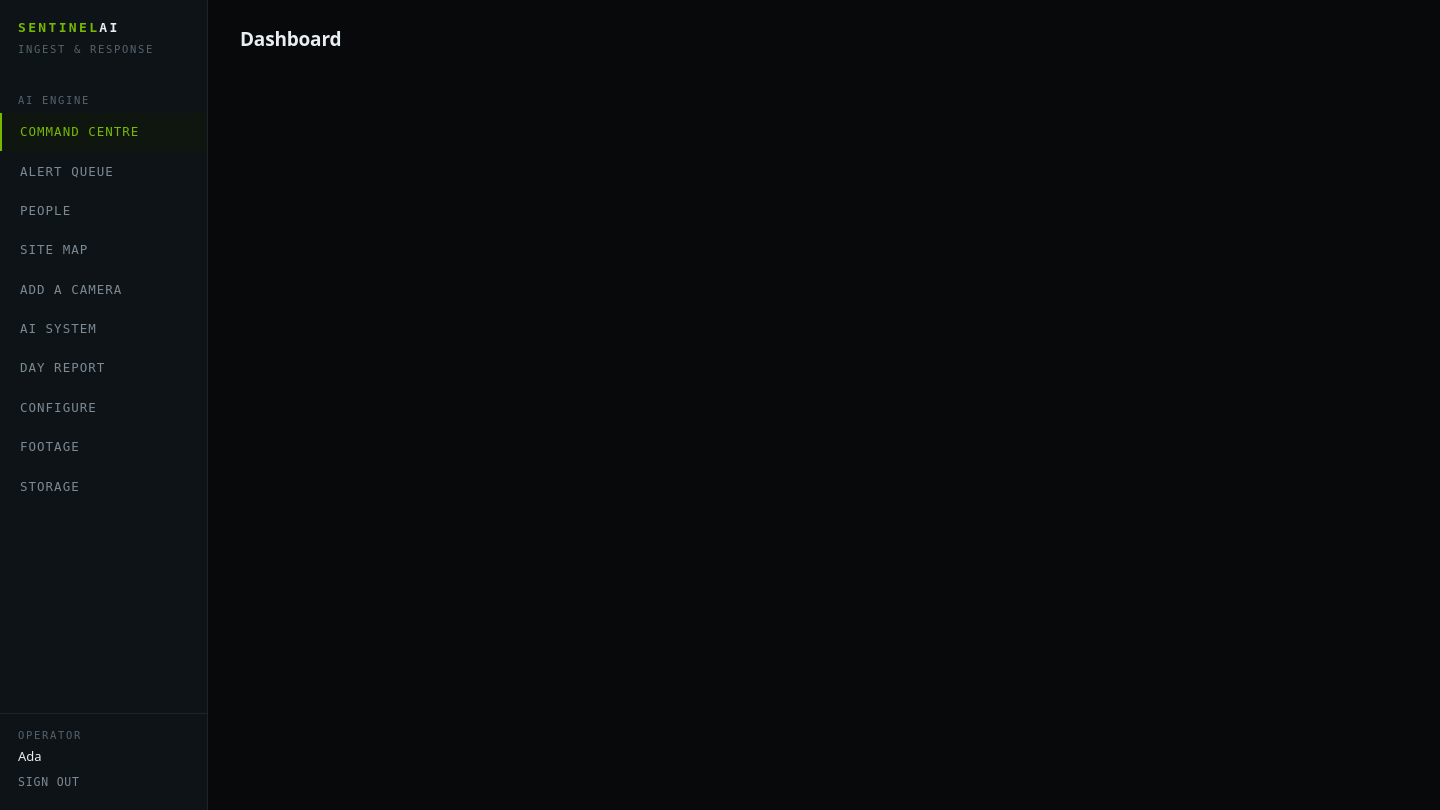
AppShell navigation › navigates to a recorder section without leaving the shell
Step 1. Click the link "Storage" → (50, 486), box [20,478,80,494]
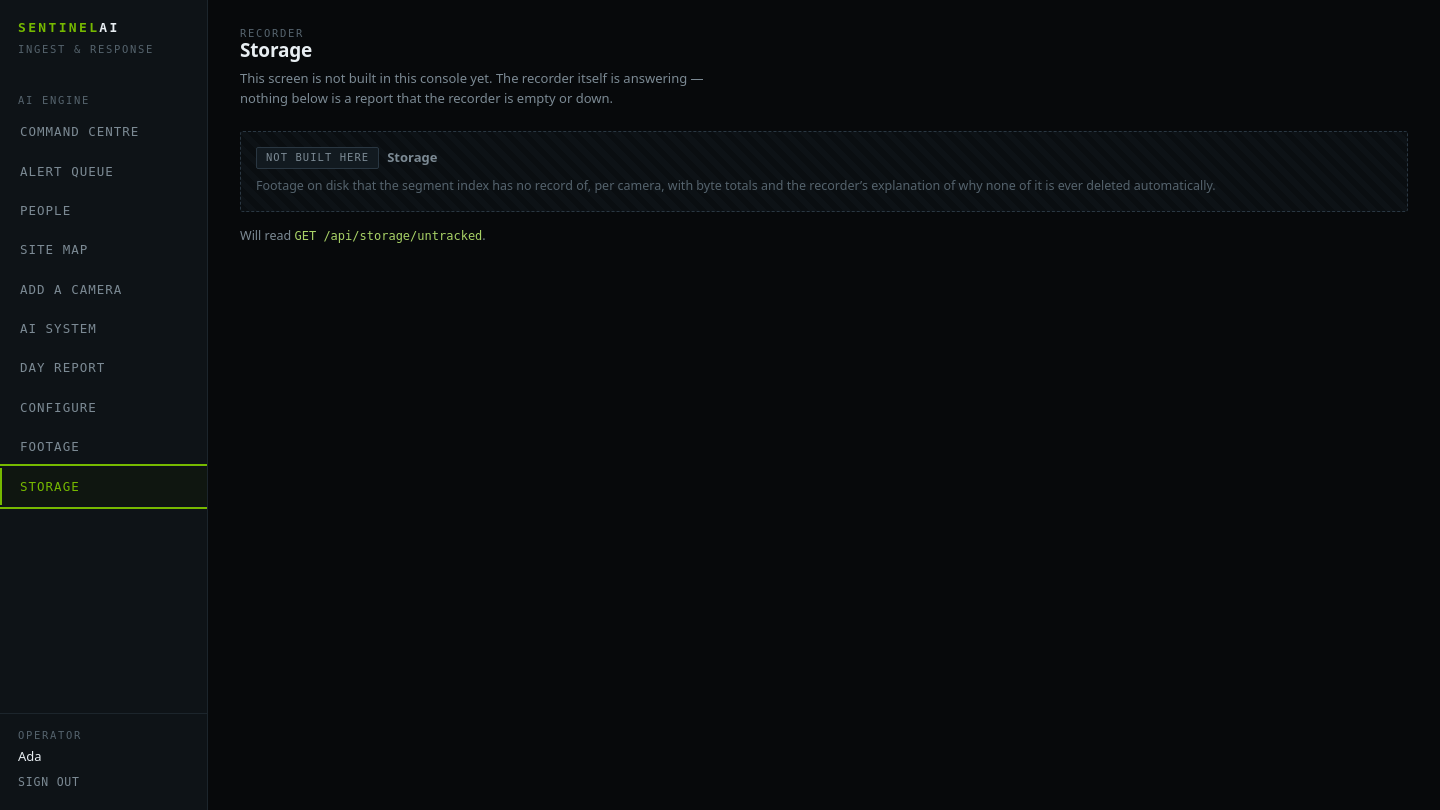
Expected: the navigation bar named "Sections" is shown, [0,0,208,809]
Now the heading "Storage" is shown, box [240,36,312,62]
